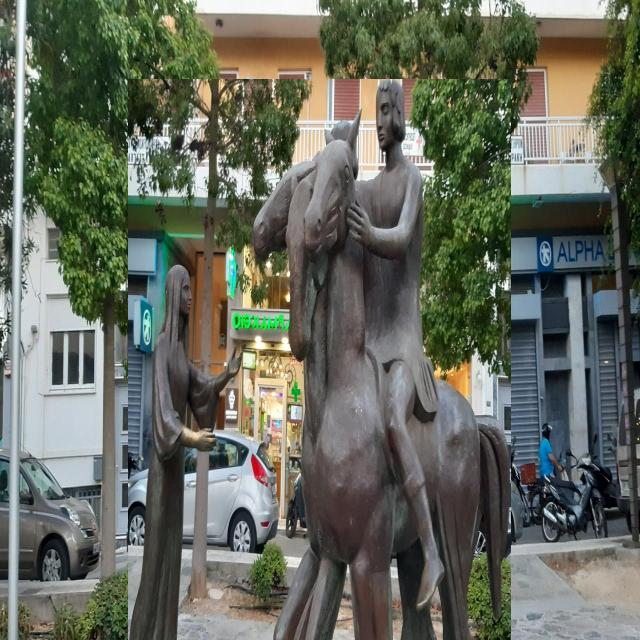Aretousa: (129, 80, 512, 640)
